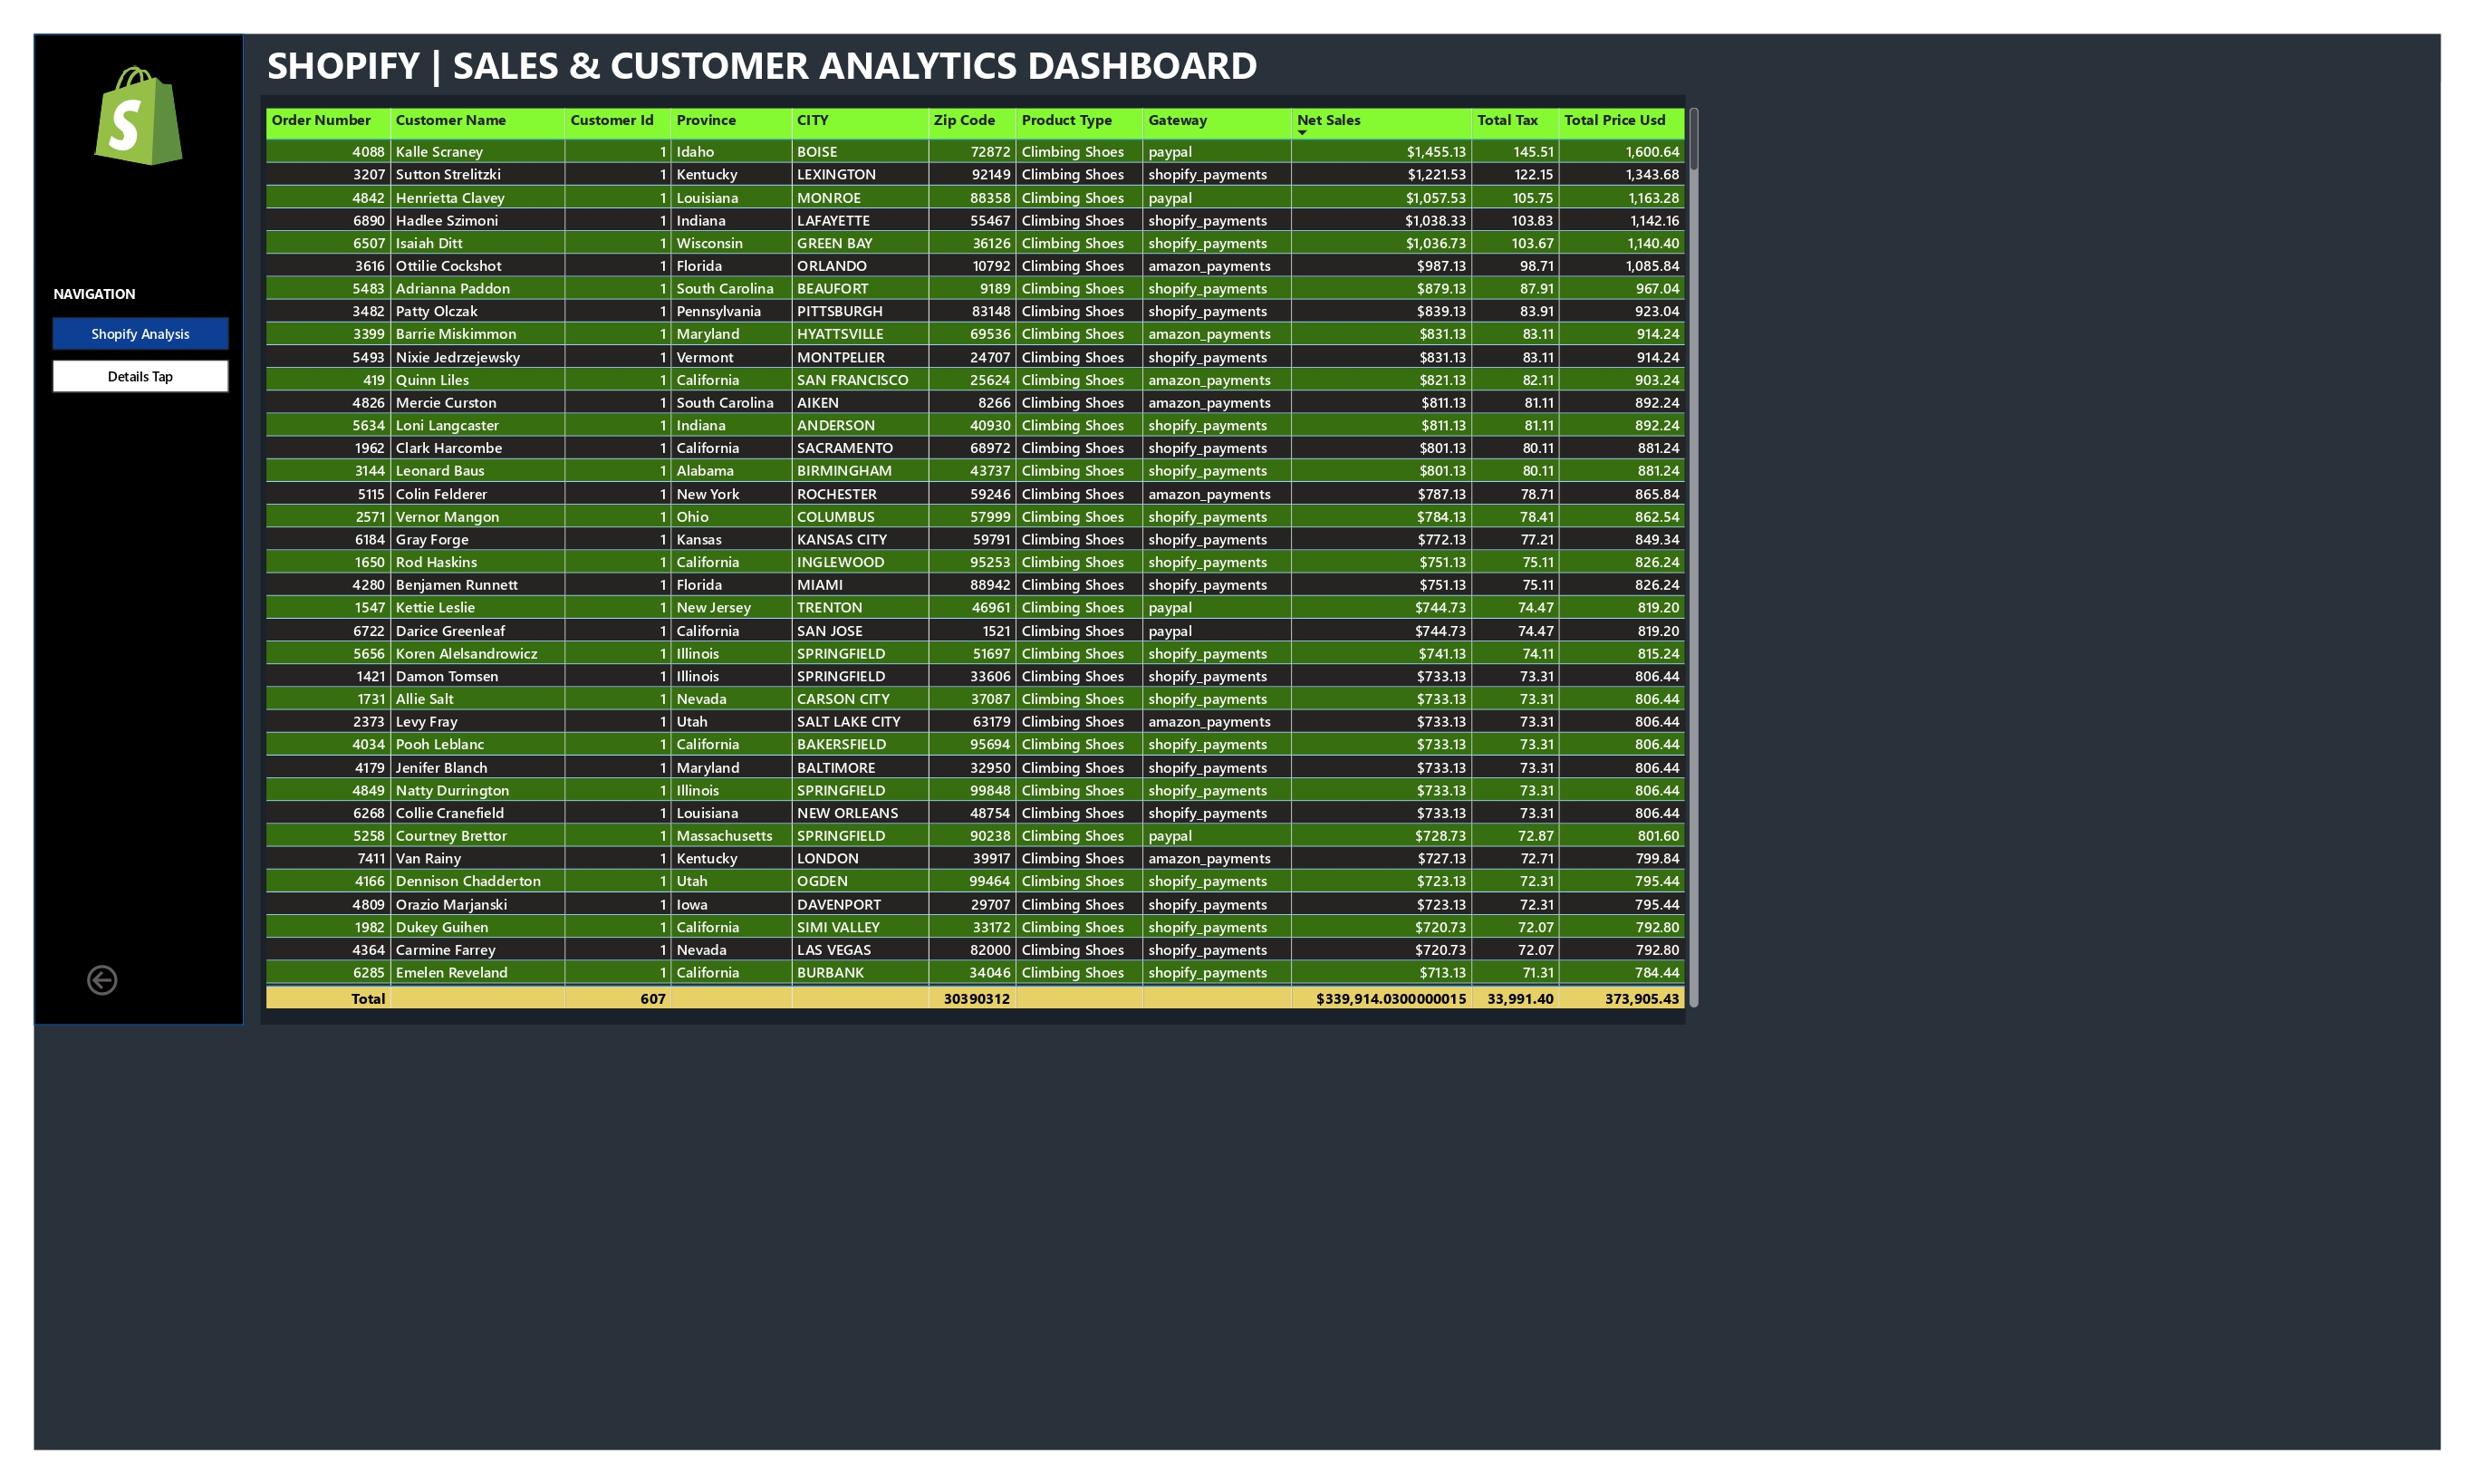

The page's visual inventory and layout, read from the dashboard file:
{"tool":"powerbi","page":{"name":"Details Tap","canvas":[1700,1000],"ordinal":1},"visuals":[{"type":"shape","box":[0,0,211.8,1000],"z":0},{"type":"textbox","box":[230,0,1050,70],"z":1000},{"type":"shape","box":[228.7,61.5,1438.5,938.5],"z":2000},{"type":"image","box":[61.4,29.7,89.2,105],"z":3000},{"type":"tableEx","fields":{"Values":["shopify_sales.Order Number","shopify_sales.Customer Name","CountNonNull(shopify_sales.Customer Id)","shopify_sales.Billing Address Province","shopify_sales.CITY","Sum(shopify_sales.Billing Address Zip)","shopify_sales.Product Type","shopify_sales.Gateway","shopify_sales.Net Sales","Sum(shopify_sales.Total Tax)","Sum(shopify_sales.Total Price Usd)"]},"box":[228.6,69.4,1456.2,917.7],"z":4000},{"type":"actionButton","box":[49.1,934.7,54.2,40.6],"z":5000},{"type":"pageNavigator","box":[18,286,178,76],"z":5001},{"type":"textbox","box":[14,249,185,37],"z":5002}]}

Visuals, with their boxes on the page's 1700x1000 design canvas (x1, y1, x2, y2). These are canvas units, not pixel positions in the 2475x1484 screenshot, which may show the page scaled, cropped or inside an application window:
shape: <box>0,0,212,1000</box>
textbox: <box>230,0,1280,70</box>
shape: <box>229,62,1667,1000</box>
image: <box>61,30,151,135</box>
tableEx - shopify_sales.Order Number x shopify_sales.Customer Name: <box>229,69,1685,987</box>
actionButton: <box>49,935,103,975</box>
pageNavigator: <box>18,286,196,362</box>
textbox: <box>14,249,199,286</box>
